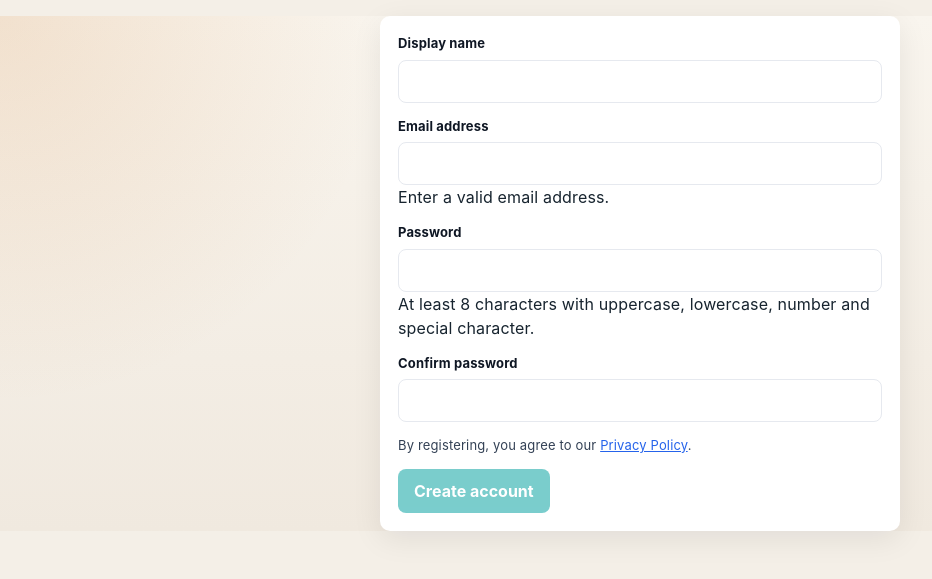
RegistrationForm › shows a password mismatch error when confirmPassword differs
Step 1. Type "Festival@1" into the password field labelled "Password" → (640, 270), box [398,248,882,292]
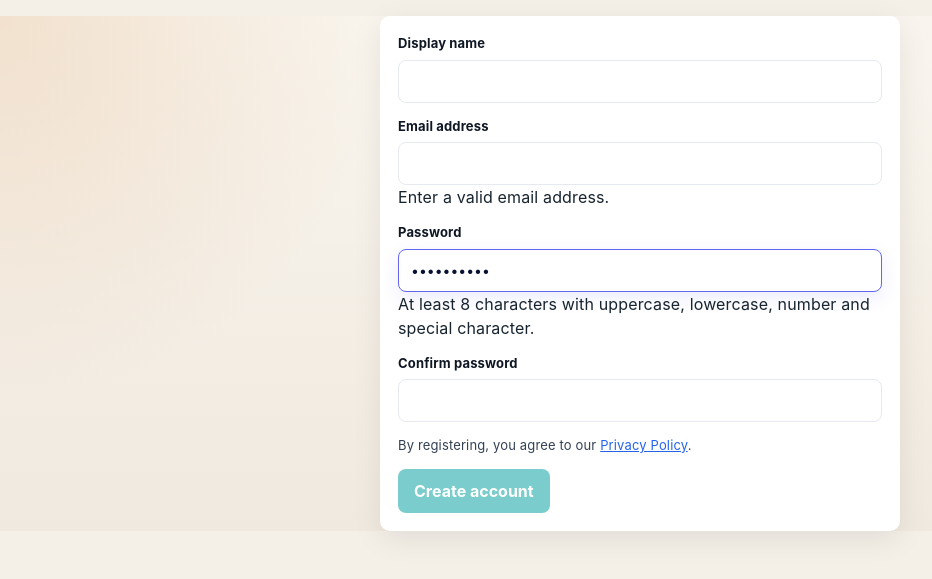
Step 2. Type "Different@1" into the password field labelled "Confirm password" → (640, 400), box [398,379,882,422]
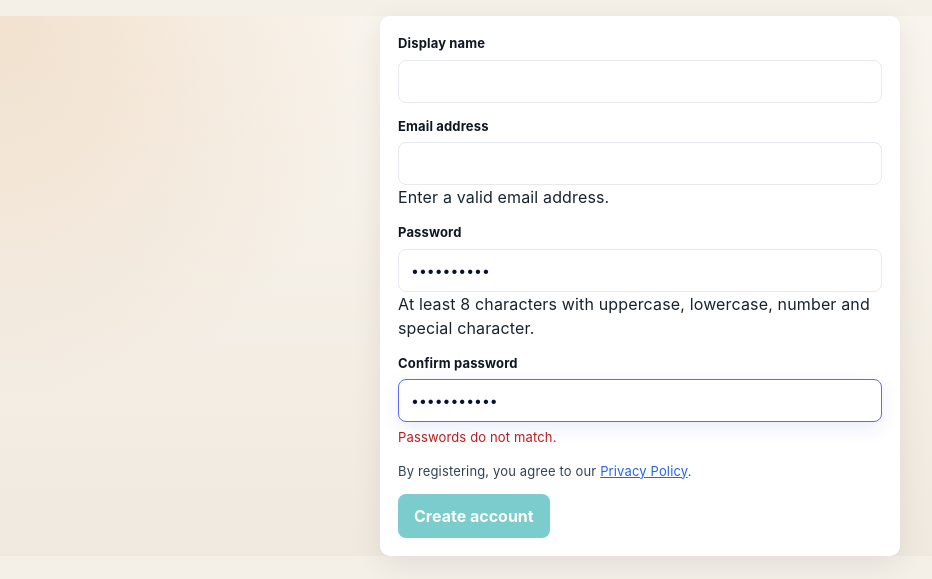
Result: the message shows "Passwords do not match" at [398,429,557,445]
